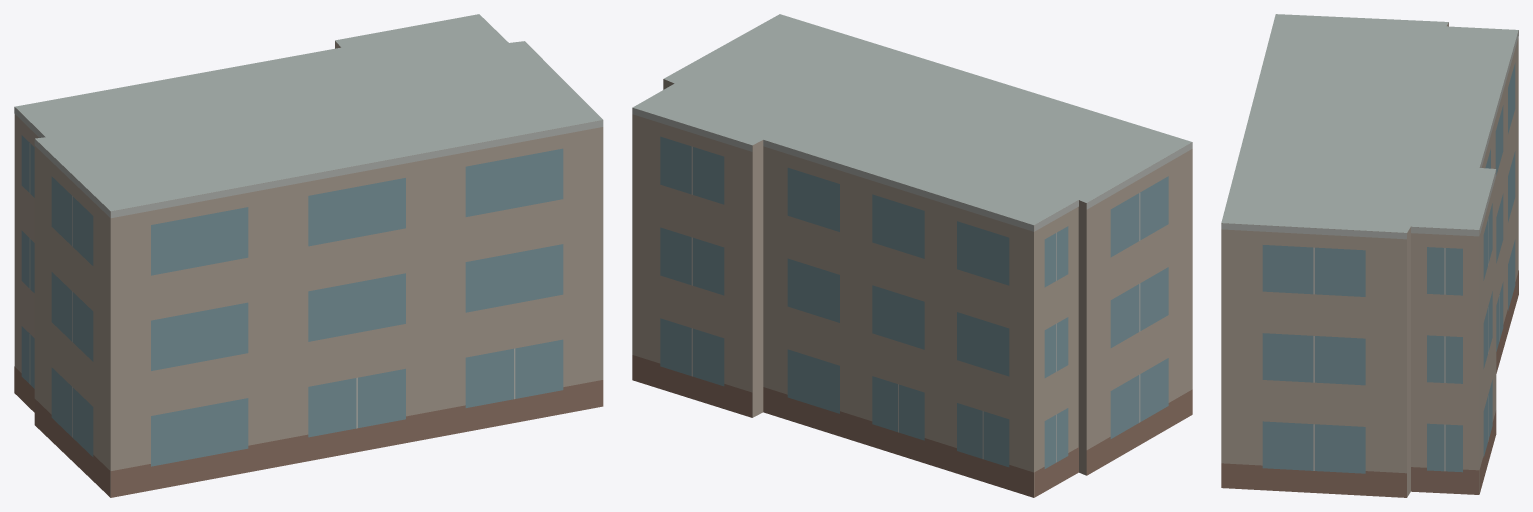
File: survey-upis-32900269.glb
The picture shows the model from 3 angles, left to right: view 1: azimuth 30°, elevation 25°; view 2: azimuth 150°, elevation 25°; view 3: azimuth 270°, elevation 25°; orthographic projection. The views are drawn at different scales.
Visible parts, largest first — view 1: survey-upis-32900269.tmp; view 2: survey-upis-32900269.tmp; view 3: survey-upis-32900269.tmp.
Boxes of the visible parts, x1,y1,x2,y2 form: survey-upis-32900269.tmp: [14, 14, 603, 497]; survey-upis-32900269.tmp: [632, 14, 1192, 497]; survey-upis-32900269.tmp: [1221, 14, 1518, 497].
Bounding box in the file's own units: 17.91 × 10.1 × 10.29.
